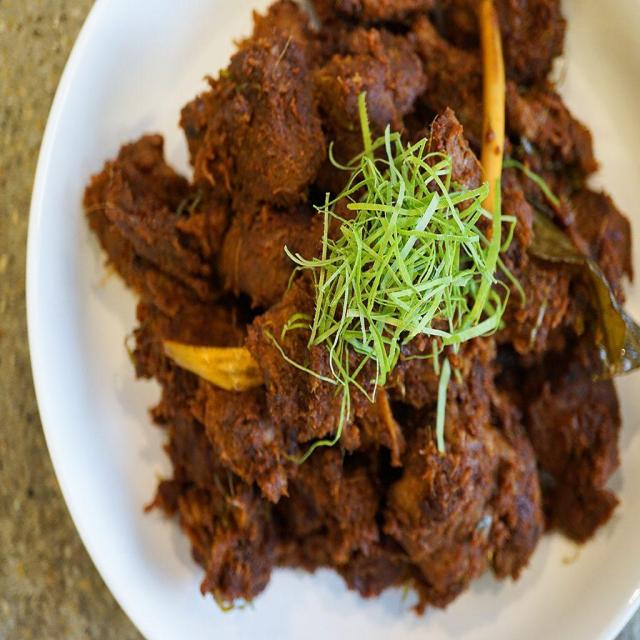Rendang: (55, 0, 640, 629)
